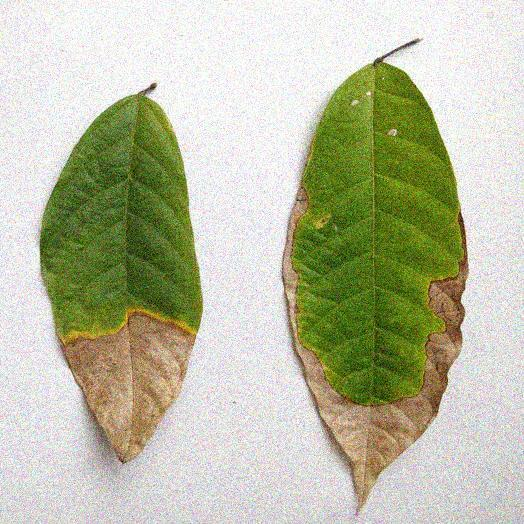Potassium: (284, 54, 466, 506), (42, 91, 201, 460)
